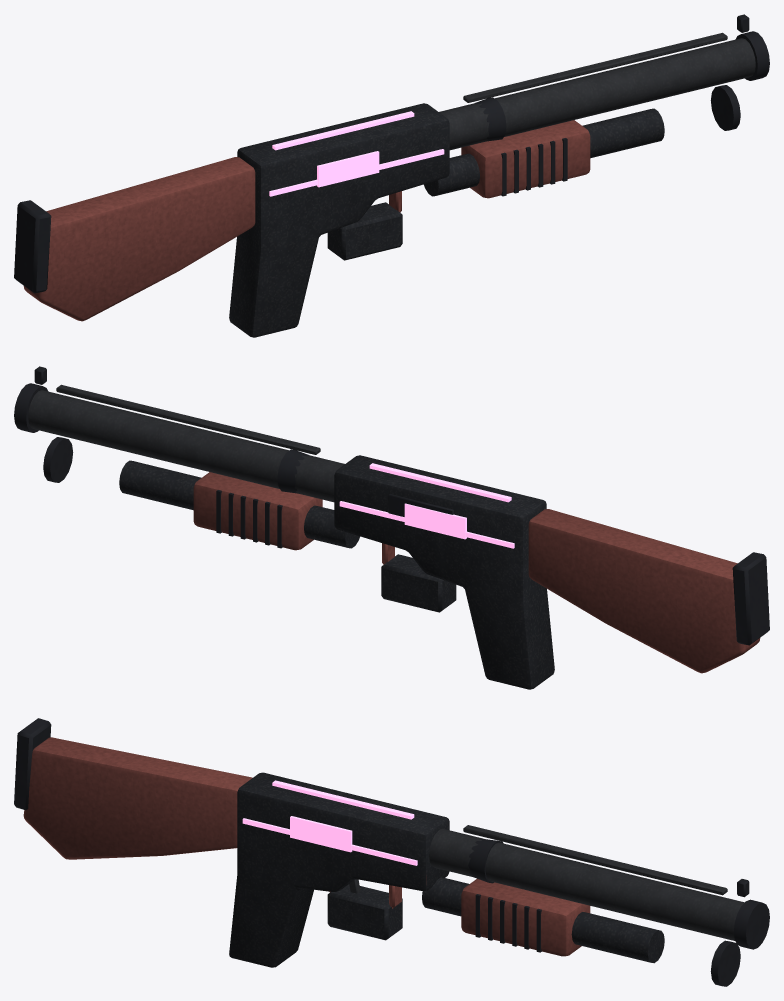
Rendered from shotgun_r5.fbx.
The picture shows the model from 3 angles, top to bottom: view 1: azimuth 30°, elevation 25°; view 2: azimuth 150°, elevation 25°; view 3: azimuth 330°, elevation 25°; orthographic projection.
Visible parts, largest first — view 1: Body, Slide, Glow, Magazine; view 2: Body, Slide, Glow, Magazine; view 3: Body, Slide, Magazine, Glow.
Boxes of the visible parts, box(x1,y1,x2,y2) form: Body: box(14, 14, 769, 337); Slide: box(461, 120, 590, 198); Glow: box(269, 111, 444, 196); Magazine: box(327, 202, 402, 260); Body: box(14, 366, 769, 689); Slide: box(193, 472, 322, 550); Glow: box(339, 463, 514, 548); Magazine: box(381, 554, 456, 612); Body: box(14, 718, 769, 986); Slide: box(461, 878, 590, 956); Magazine: box(327, 884, 402, 940); Glow: box(242, 780, 417, 865).
Bounding box in the file's own units: 8.46 × 2.11 × 0.57.
2 materials, 1 textured.
